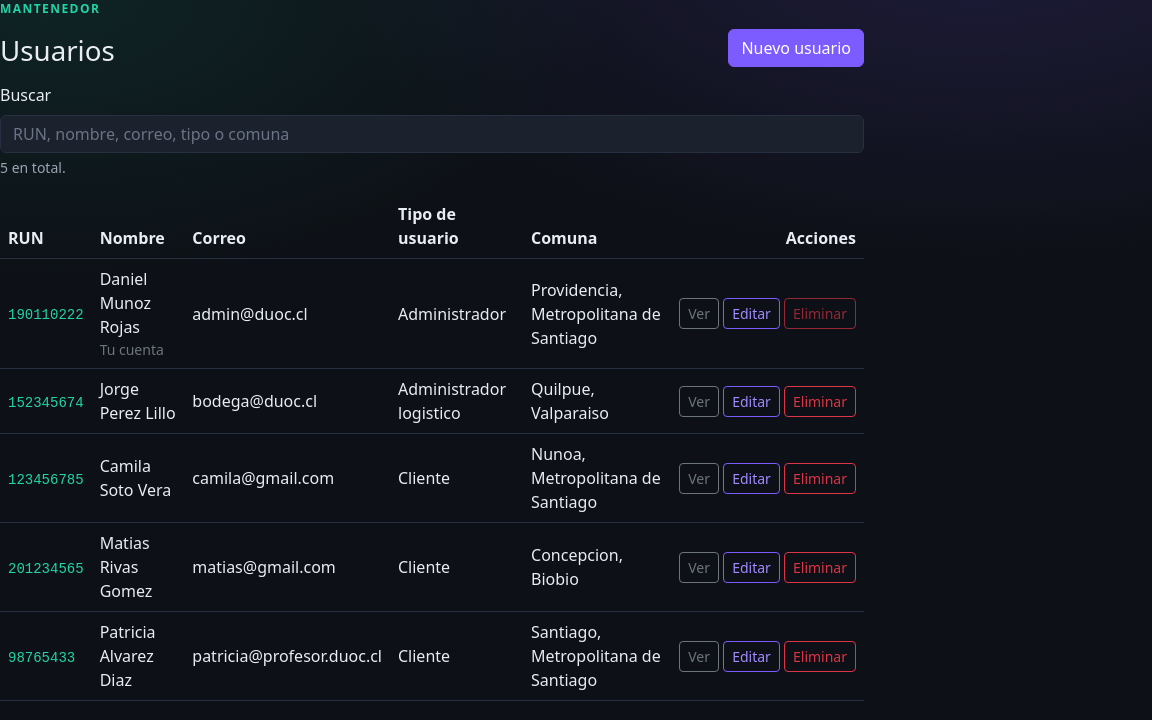
Test case: admin / Usuarios › eliminar (RF-11 CA6) › confirmar elimina a un usuario sin ordenes y quita su fila
What coordinates should you click on to do the following:
click the button "Eliminar" in the row of "98765433"
I would click on:
 (820, 656)
Its box is [784, 641, 856, 672].
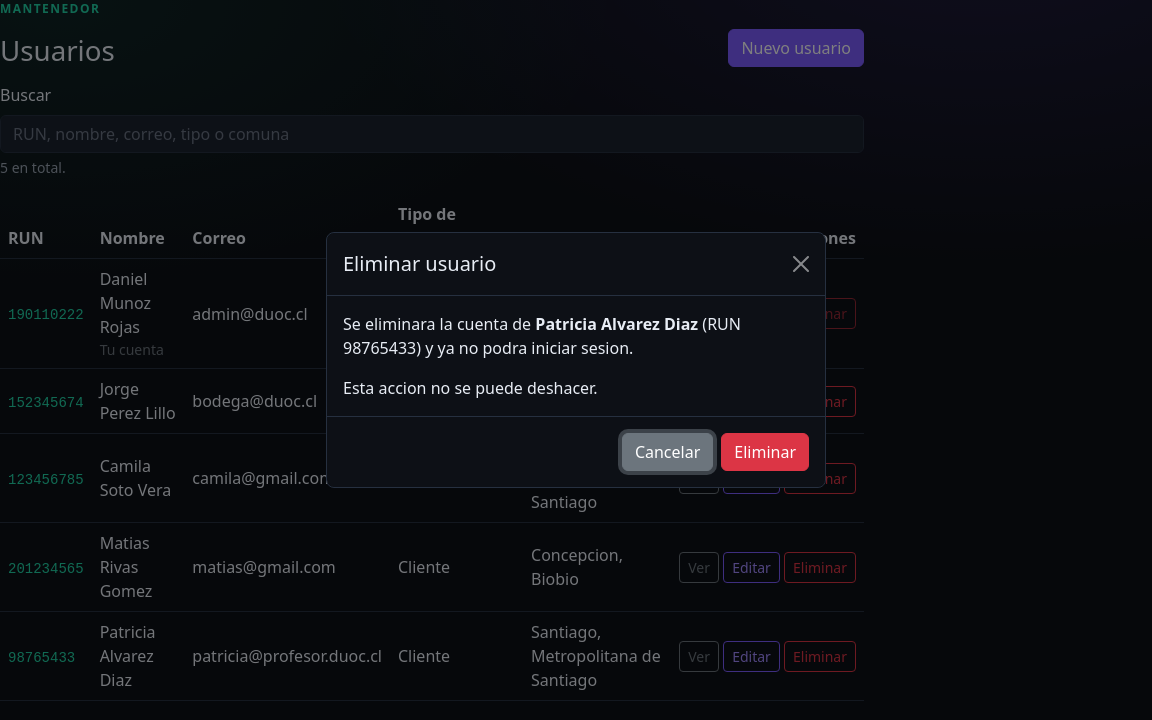
What coordinates should you click on to do the following:
click the button "Eliminar"
I would click on:
 (765, 452)
Its box is [721, 433, 809, 471].
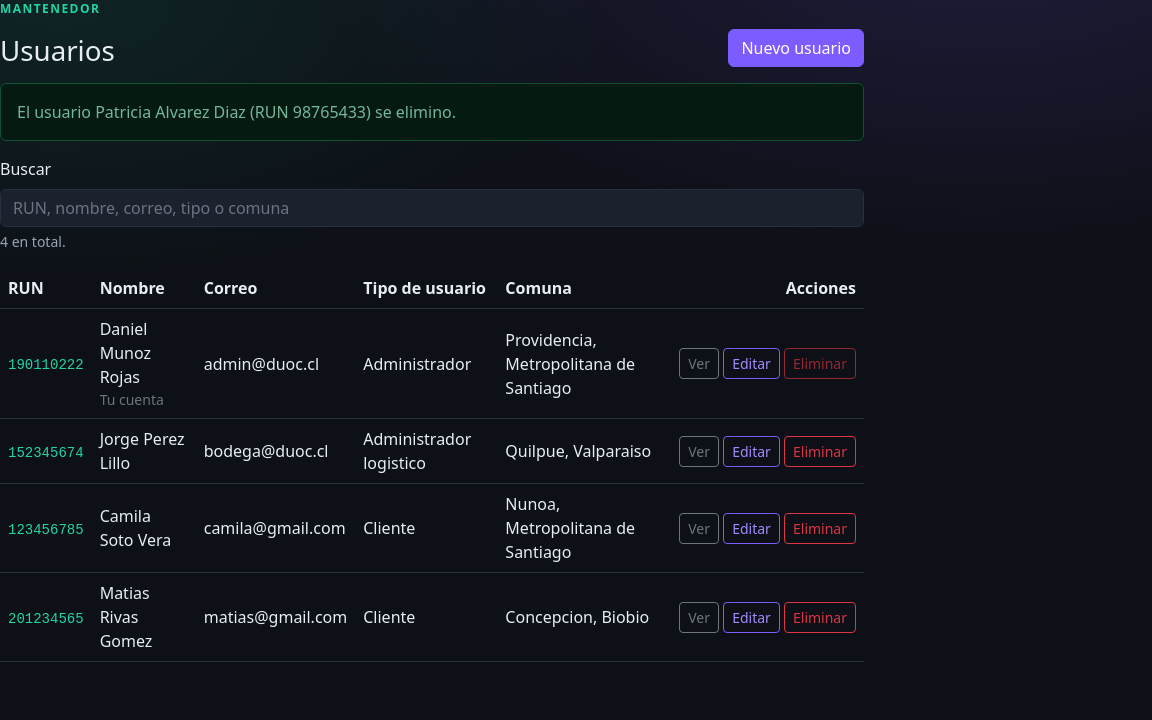
Expected: the message shows "98765433", [17, 101, 456, 123]
